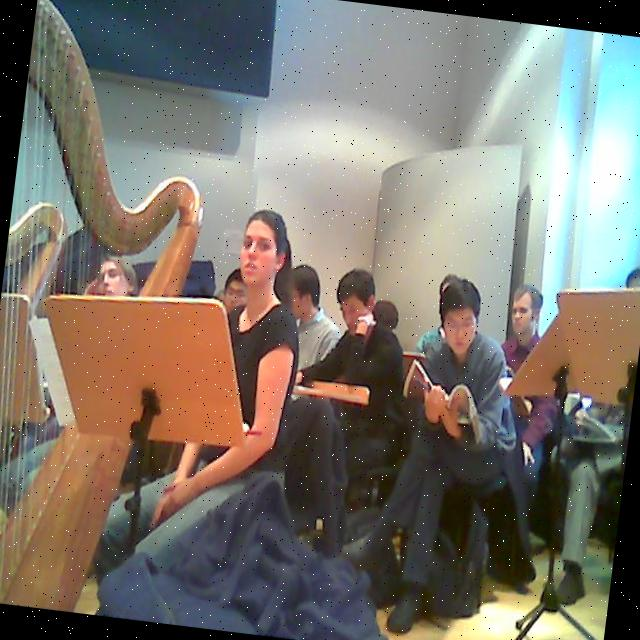harp: (0, 0, 231, 620)
